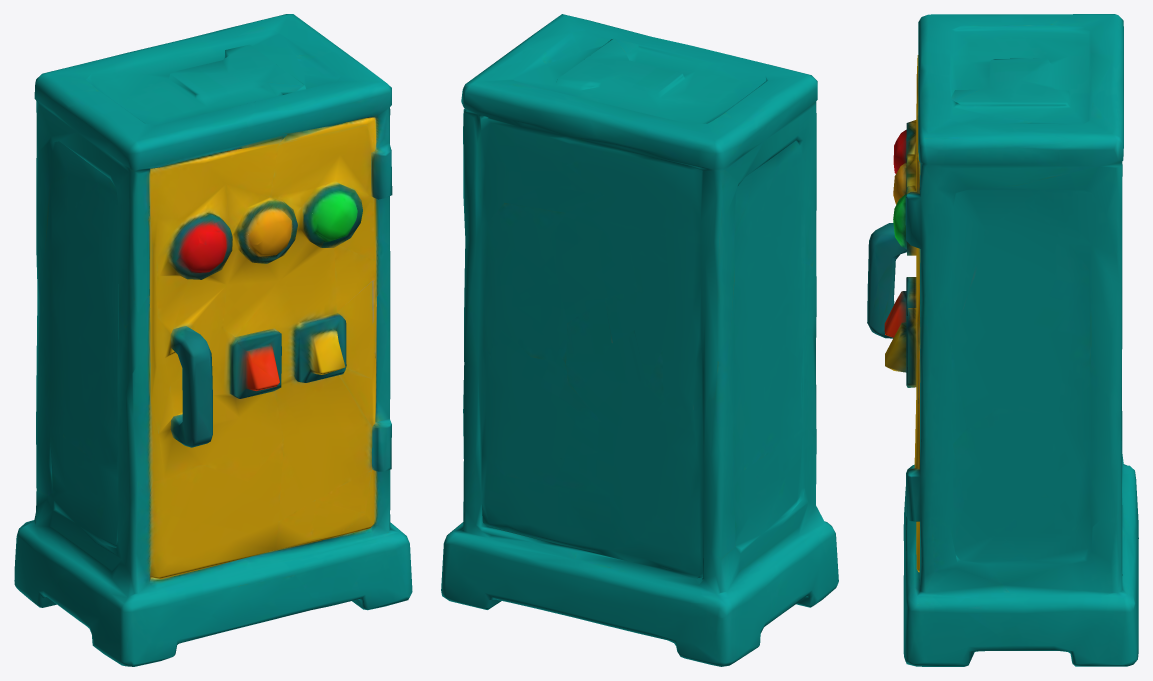
The model's file is factory-control-cabinet.glb.
3 views of the same model, side by side, from view 1: azimuth 30°, elevation 25°; view 2: azimuth 150°, elevation 25°; view 3: azimuth 270°, elevation 25° (orthographic).
Visible parts, largest first — view 1: body, lamp-amber, lamp-red, lamp-green; view 2: body; view 3: body, lamp-green.
Part boxes in pixels (x1=…): body: x1=14, y1=14, x2=412, y2=666; lamp-amber: x1=247, y1=207, x2=291, y2=257; lamp-red: x1=180, y1=224, x2=227, y2=273; lamp-green: x1=312, y1=195, x2=357, y2=240; body: x1=441, y1=14, x2=838, y2=666; body: x1=867, y1=14, x2=1138, y2=666; lamp-green: x1=893, y1=193, x2=906, y2=245.
Size of the model in its own units: 1.25 by 2.1 by 0.9862.
Materials: 1 (1 with a texture image).
